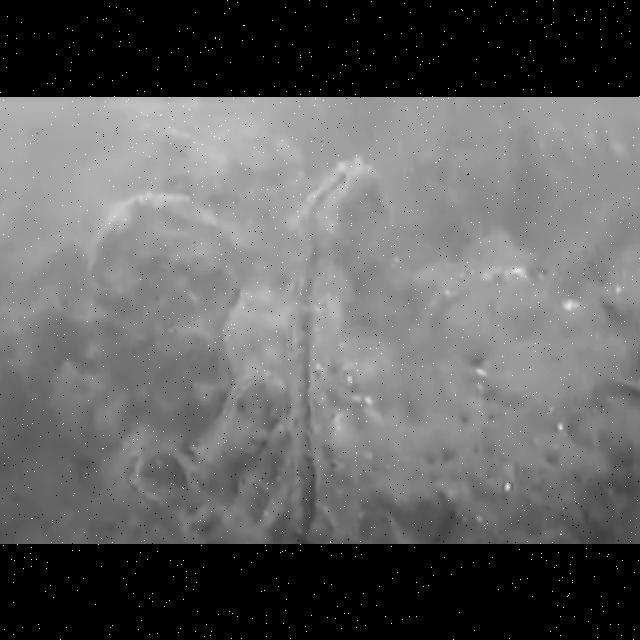Oyster-Closed: (84, 190, 248, 408)
Oyster-Open: (277, 290, 343, 540), (288, 153, 398, 295), (121, 432, 215, 510), (217, 366, 289, 456)
